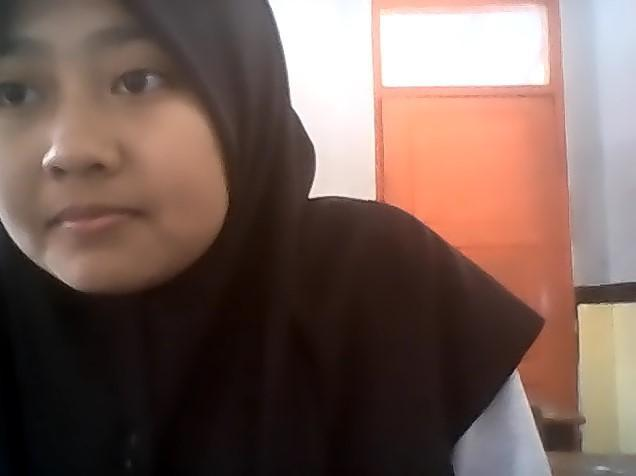cheating: (6, 0, 636, 476)
